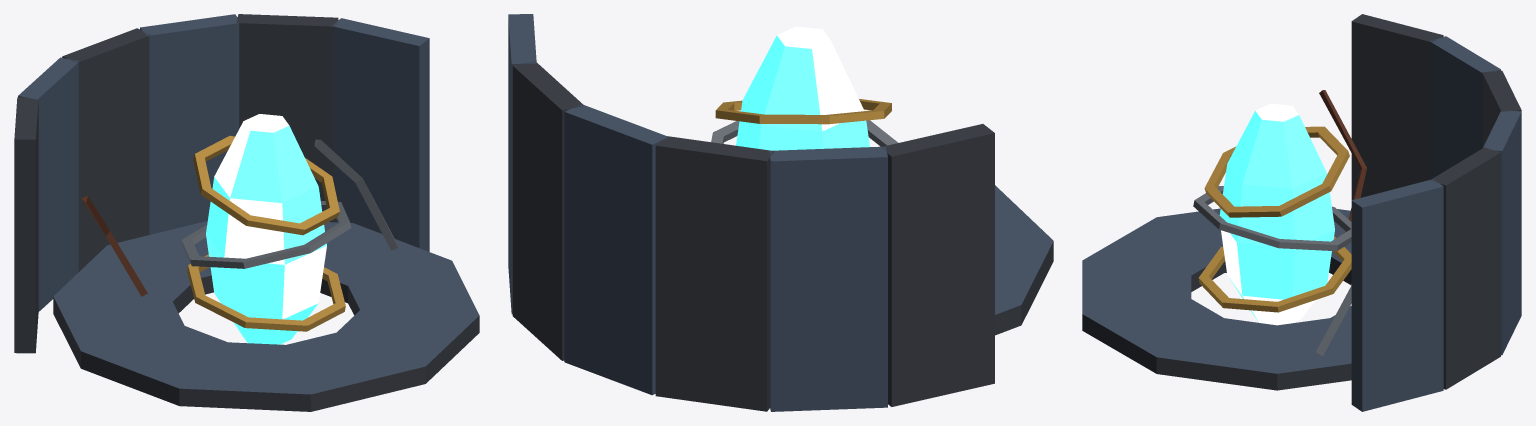
The model's file is SM_Env_LiftCoreChamber_LQ.glb.
3 renders of one model, left to right at view 1: azimuth 30°, elevation 25°; view 2: azimuth 150°, elevation 25°; view 3: azimuth 270°, elevation 25°, orthographic. The views are drawn at different scales.
Parts seen in each view (by area): view 1: SM_Env_LiftCoreChamber_LQ; view 2: SM_Env_LiftCoreChamber_LQ; view 3: SM_Env_LiftCoreChamber_LQ.
Boxes of the visible parts, x1=… form: SM_Env_LiftCoreChamber_LQ: x1=14, y1=14, x2=479, y2=411; SM_Env_LiftCoreChamber_LQ: x1=508, y1=14, x2=1053, y2=411; SM_Env_LiftCoreChamber_LQ: x1=1082, y1=14, x2=1521, y2=411.
Size of the model in its own units: 22.37 by 11.1 by 21.44.
Materials: 1 (1 with a texture image).
